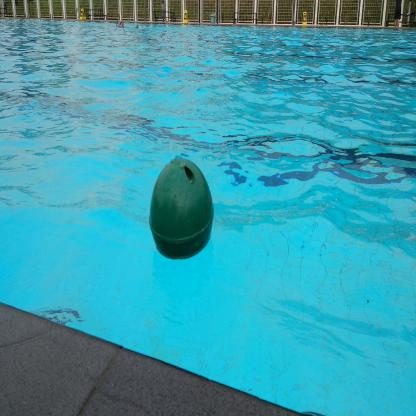green_buoy: (145, 153, 218, 266)
